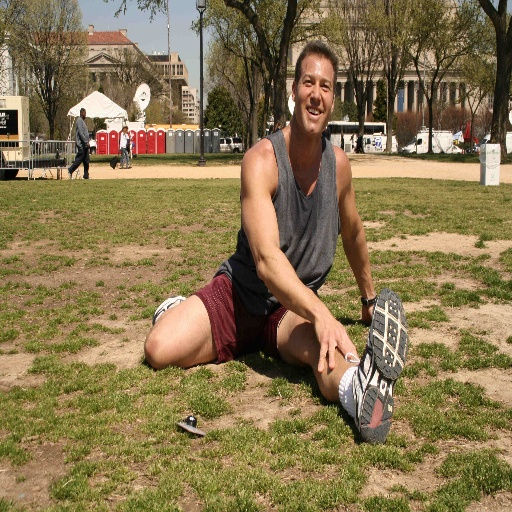hand: (316, 313, 358, 371), (361, 304, 377, 328)
